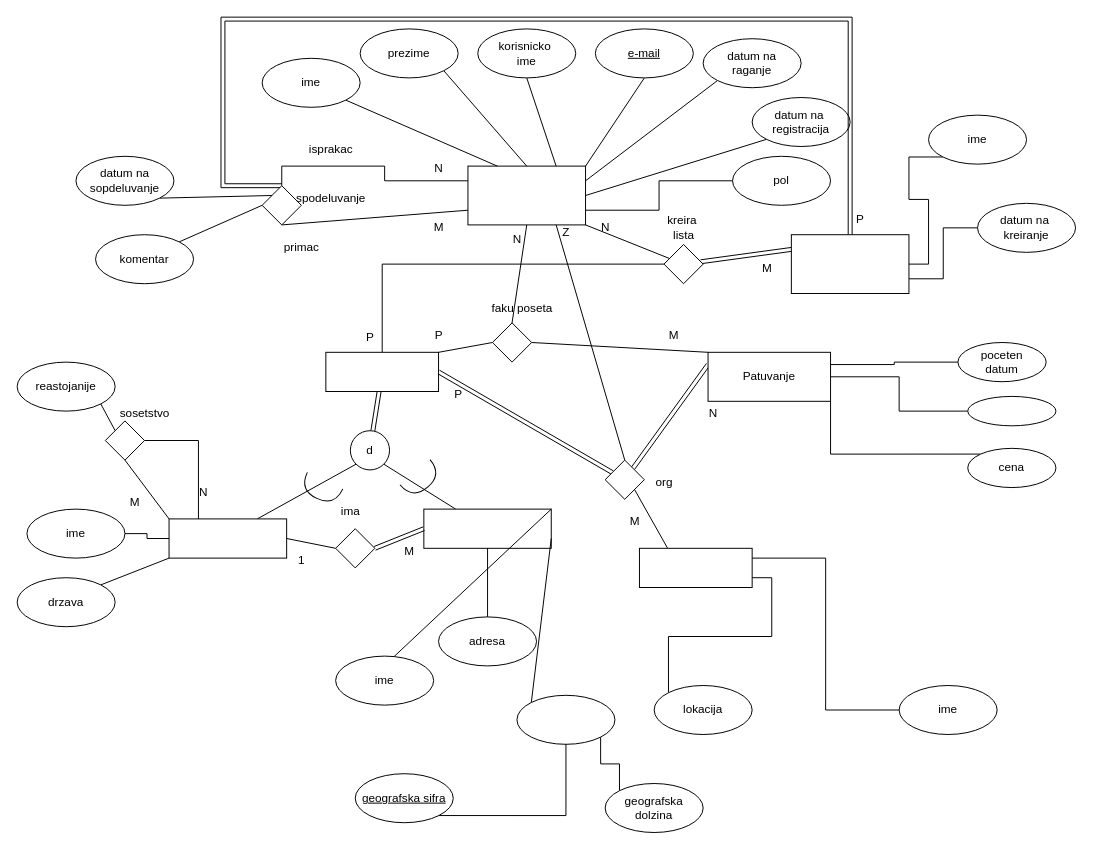
Some shapes in this 1093 by 850 pixel diagram are drawn without their labels. The shapes that lost their labels are listed below. From the top down, each one's box as (x1, y1, x2, y2) in pixels, then its label:
(467, 165, 586, 225): KORISNIK
(790, 234, 909, 294): LISTA
(325, 351, 439, 392): TURISTICKI MESTA
(967, 395, 1056, 426): krajen datum
(168, 518, 287, 558): GRADOVI
(423, 508, 551, 548): KONKRETNI OBIJEKTI
(638, 547, 752, 588): TURISTICKA AGENCIJA
(516, 694, 615, 744): geografska lokacija
